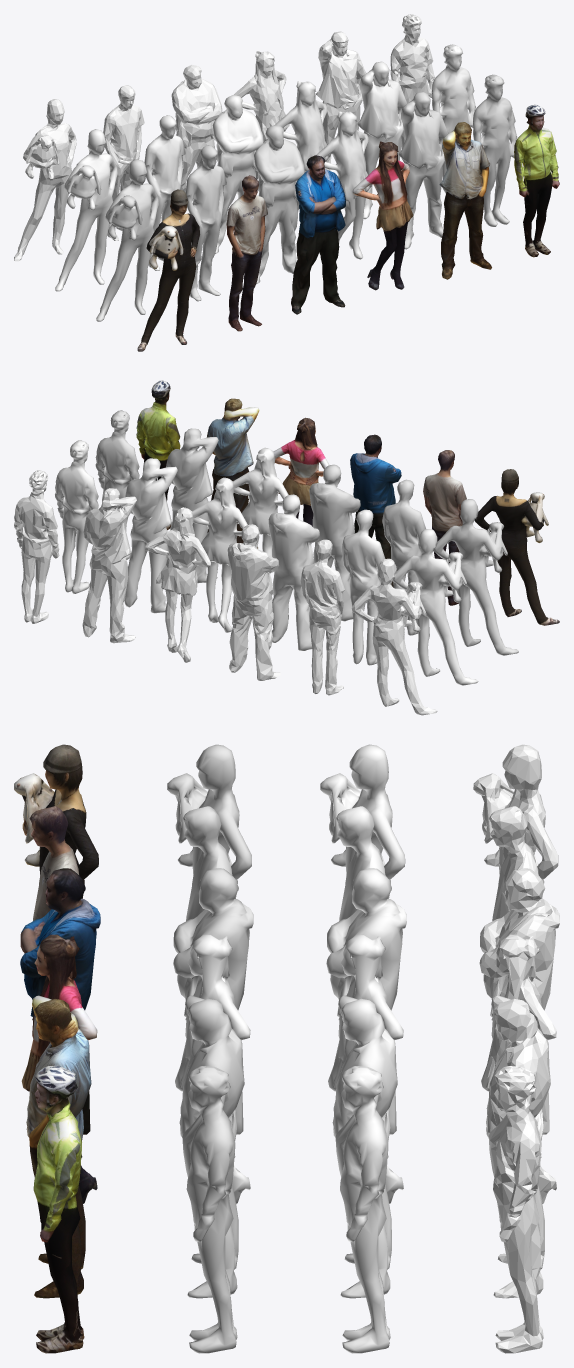
3 views of the same model, one above another, from view 1: azimuth 30°, elevation 25°; view 2: azimuth 150°, elevation 25°; view 3: azimuth 270°, elevation 25° (orthographic). The views are drawn at different scales.
Parts seen in each view (by area): view 1: 03_person.003, 05_person.003, 01_person.003, 03_person, 01_person.001, 01_person, 01_person.002, 05_person, 06_person.003, 02_person.003, 04_person.003, 06_person (+12 smaller); view 2: 03_person.002, 05_person.002, 01_person.002, 01_person.001, 01_person, 01_person.003, 03_person.001, 05_person.001, 02_person.002, 04_person.002, 06_person.002, 06_person.001 (+12 smaller); view 3: 06_person.001, 06_person, 06_person.002, 06_person.003, 05_person, 05_person.003, 05_person.002, 05_person.001, 03_person.001, 03_person, 03_person.002, 03_person.003 (+12 smaller).
Boxes of the visible parts, left/top/right/bottom form: 03_person.003: left=291, top=155, right=345, bottom=314; 05_person.003: left=439, top=122, right=491, bottom=279; 01_person.003: left=137, top=189, right=199, bottom=351; 03_person: left=254, top=125, right=304, bottom=284; 01_person.001: left=55, top=129, right=117, bottom=291; 01_person: left=96, top=159, right=158, bottom=321; 01_person.002: left=14, top=99, right=76, bottom=261; 05_person: left=398, top=91, right=448, bottom=249; 06_person.003: left=514, top=104, right=559, bottom=257; 02_person.003: left=226, top=175, right=267, bottom=331; 04_person.003: left=352, top=141, right=413, bottom=290; 06_person: left=473, top=74, right=517, bottom=226; 03_person.002: left=227, top=524, right=280, bottom=680; 05_person.002: left=82, top=488, right=136, bottom=643; 01_person.002: left=351, top=558, right=437, bottom=715; 01_person.001: left=393, top=529, right=478, bottom=685; 01_person: left=434, top=499, right=518, bottom=655; 01_person.003: left=474, top=469, right=559, bottom=625; 03_person.001: left=268, top=494, right=319, bottom=650; 05_person.001: left=124, top=458, right=177, bottom=613; 02_person.002: left=300, top=539, right=344, bottom=695; 04_person.002: left=145, top=507, right=210, bottom=662; 06_person.002: left=14, top=470, right=59, bottom=623; 06_person.001: left=55, top=440, right=98, bottom=593; 06_person.001: left=340, top=1066, right=390, bottom=1353; 06_person: left=186, top=1066, right=237, bottom=1353; 06_person.002: left=493, top=1066, right=543, bottom=1353; 06_person.003: left=33, top=1066, right=84, bottom=1353; 05_person: left=179, top=995, right=244, bottom=1298; 05_person.003: left=26, top=995, right=91, bottom=1298; 05_person.002: left=486, top=995, right=550, bottom=1298; 05_person.001: left=332, top=995, right=397, bottom=1298; 03_person.001: left=326, top=868, right=406, bottom=1157; 03_person: left=173, top=868, right=253, bottom=1157; 03_person.002: left=479, top=868, right=559, bottom=1157; 03_person.003: left=20, top=868, right=100, bottom=1157.
Size of the model in its own units: 296 by 101 by 178.
13 materials, 6 textured.
